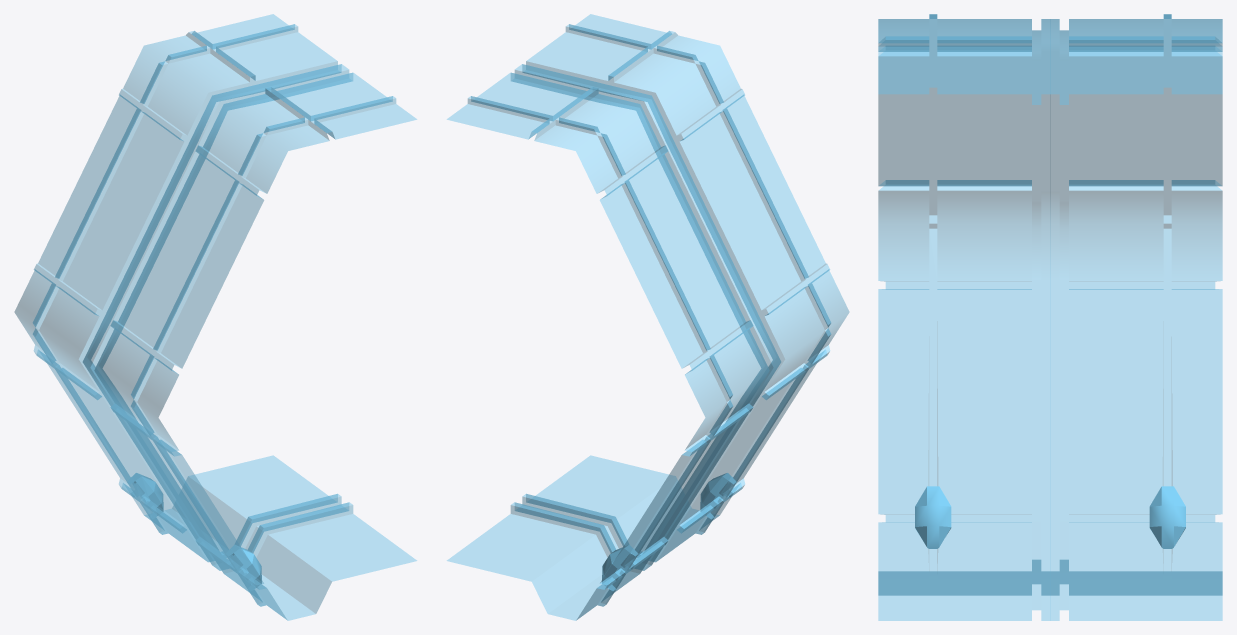
Rendered from TubeHalf_004.FBX.
3 views of the same model, side by side, from view 1: azimuth 30°, elevation 25°; view 2: azimuth 150°, elevation 25°; view 3: azimuth 270°, elevation 25° (orthographic). The views are drawn at different scales.
Parts seen in each view (by area): view 1: TubeHalf_004; view 2: TubeHalf_004; view 3: TubeHalf_004.
Part boxes in pixels (box(x1,y1,x2,y2)): TubeHalf_004: box(14, 14, 416, 620); TubeHalf_004: box(447, 14, 849, 620); TubeHalf_004: box(878, 14, 1222, 620).
Bounding box in the file's own units: 245 × 424 × 233.
